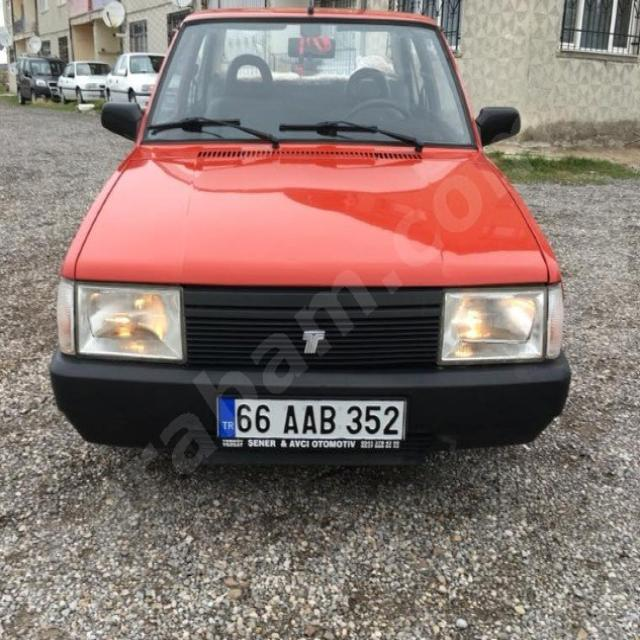license_plate: (216, 397, 406, 439)
